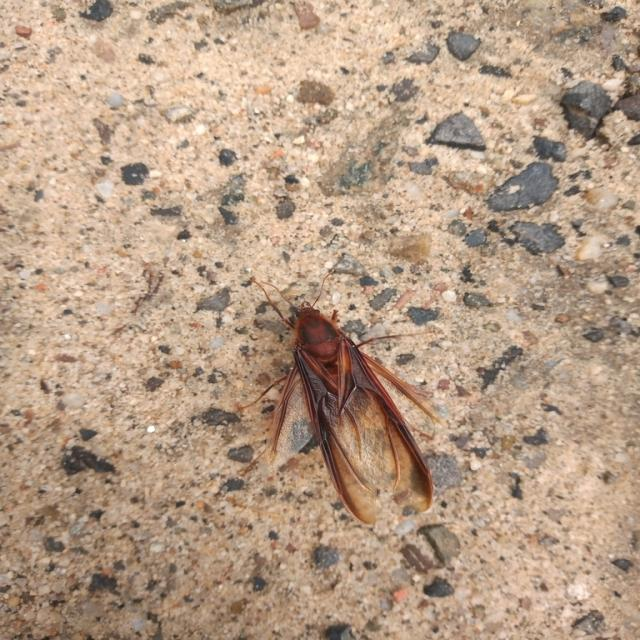Alive-Male-Alate: (239, 269, 437, 525)
